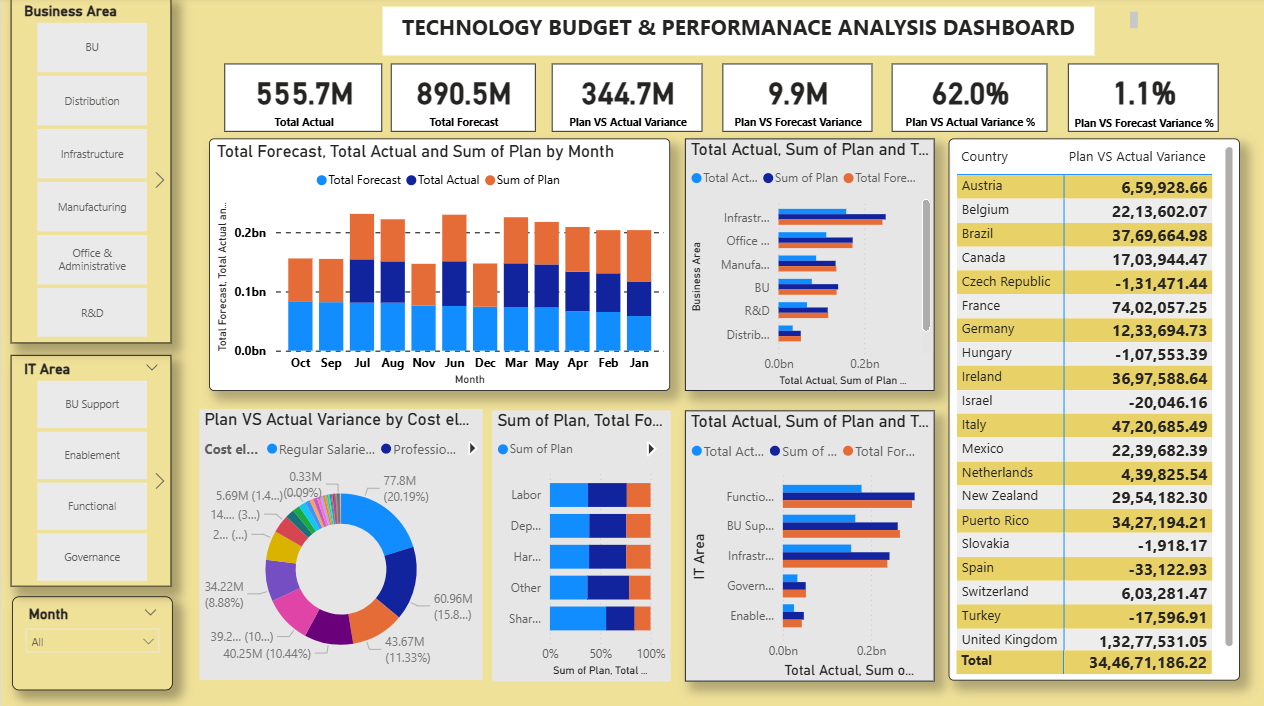

Layout of this report page (visuals, bound fields, positions):
{"tool":"powerbi","page":{"name":"Page 1","canvas":[1280,720],"ordinal":0},"visuals":[{"type":"card","fields":{"Values":["Measure.Total Actual"]},"box":[224.8,67.2,158.8,68.4],"z":1000},{"type":"card","fields":{"Values":["Measure.Total Forecast"]},"box":[392.2,67.2,145.4,68.4],"z":2000},{"type":"card","fields":{"Values":["Measure.Plan VS Actual Variance"]},"box":[553.5,67.2,151.5,68.4],"z":3000},{"type":"card","fields":{"Values":["Measure.Plan VS Actual Variance %"]},"box":[895.6,67.2,156.4,68.4],"z":4000},{"type":"card","fields":{"Values":["Measure.Plan VS Forecast Variance"]},"box":[725.8,67.2,150.3,68.4],"z":5000},{"type":"card","fields":{"Values":["Measure.Plan VS Forecast Variance %"]},"box":[1072.8,67.2,151.5,68.4],"z":6000},{"type":"pivotTable","fields":{"Rows":["Data.Country"],"Values":["Measure.Plan VS Actual Variance"]},"box":[952.8,142.8,292.8,544.9],"z":7000},{"type":"columnChart","fields":{"Category":["Data.Month"],"Y":["Measure.Total Forecast","Measure.Total Actual","Sum(Data.Plan)"]},"box":[209.8,142.8,463.3,253.5],"z":8000},{"type":"donutChart","fields":{"Y":["Measure.Plan VS Actual Variance"],"Category":["Data.Cost element name"]},"box":[199.2,414.2,284.7,272.5],"z":9000},{"type":"hundredPercentStackedBarChart","fields":{"Y":["Sum(Data.Plan)","Measure.Total Forecast","Measure.Total Actual"],"Category":["Data.Cost Element Group"]},"box":[493.9,415.2,179.2,272.4],"z":10000},{"type":"clusteredBarChart","fields":{"Y":["Measure.Total Actual","Sum(Data.Plan)","Measure.Total Forecast"],"Category":["Data.Business Area"]},"box":[687.6,142.8,250.6,253.5],"z":11000},{"type":"clusteredBarChart","fields":{"Y":["Measure.Total Actual","Sum(Data.Plan)","Measure.Total Forecast"],"Category":["Data.IT Area"]},"box":[687.6,415.2,250.6,272.4],"z":12000},{"type":"slicer","fields":{"Values":["Data.Business Area"]},"box":[10.2,0,161.7,348.2],"z":13000},{"type":"slicer","fields":{"Values":["Data.Month"]},"box":[11.7,603.1,161.7,94.7],"z":14000},{"type":"textbox","box":[327.8,10.2,820.2,33.5],"z":15000},{"type":"textbox","box":[383.6,9.8,715.6,48.8],"z":16000},{"type":"slicer","fields":{"Values":["Data.IT Area"]},"box":[10.2,359.8,161.7,233.1],"z":17000}]}

Visuals, with their boxes in screenshot pixels (x1, y1, x2, y2), scaled from the page's 1280x720 canvas onto the 1264x706 screenshot:
card - Measure.Total Actual: crop(222, 66, 379, 133)
card - Measure.Total Forecast: crop(387, 66, 531, 133)
card - Measure.Plan VS Actual Variance: crop(547, 66, 696, 133)
card - Measure.Plan VS Actual Variance %: crop(884, 66, 1039, 133)
card - Measure.Plan VS Forecast Variance: crop(717, 66, 865, 133)
card - Measure.Plan VS Forecast Variance %: crop(1059, 66, 1209, 133)
pivotTable - Data.Country x Measure.Plan VS Actual Variance: crop(941, 140, 1230, 674)
columnChart - Data.Month x Measure.Total Forecast: crop(207, 140, 665, 389)
donutChart - Measure.Plan VS Actual Variance x Data.Cost element name: crop(197, 406, 478, 673)
hundredPercentStackedBarChart - Sum(Data.Plan) x Measure.Total Forecast: crop(488, 407, 665, 674)
clusteredBarChart - Measure.Total Actual x Sum(Data.Plan): crop(679, 140, 926, 389)
clusteredBarChart - Measure.Total Actual x Sum(Data.Plan): crop(679, 407, 926, 674)
slicer - Data.Business Area: crop(10, 0, 170, 341)
slicer - Data.Month: crop(12, 591, 171, 684)
textbox: crop(324, 10, 1134, 43)
textbox: crop(379, 10, 1085, 57)
slicer - Data.IT Area: crop(10, 353, 170, 581)
